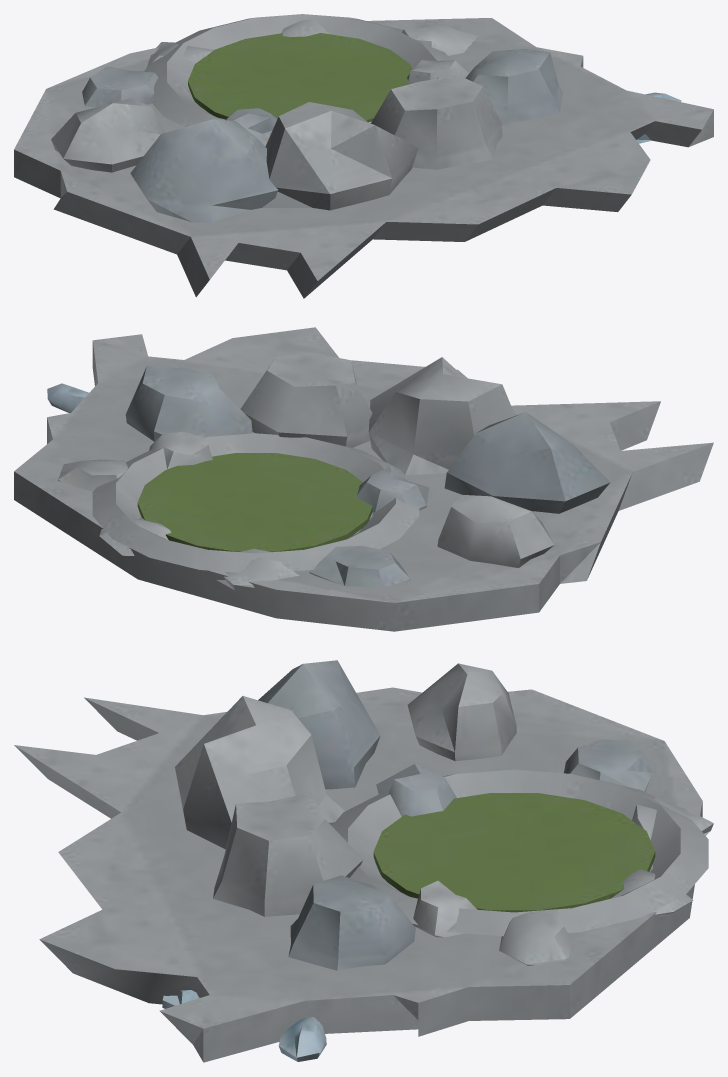
Rendered from lithium-brine.glb.
3 renders of one model, top to bottom at view 1: azimuth 30°, elevation 25°; view 2: azimuth 150°, elevation 25°; view 3: azimuth 270°, elevation 25°, orthographic. The views are drawn at different scales.
Parts seen in each view (by area): view 1: body; view 2: body; view 3: body.
Boxes of the visible parts, x1,y1,x2,y2 form: body: (14,14,713,298); body: (14,327,713,631); body: (14,660,713,1062).
Size of the model in its own units: 1.74 by 0.2895 by 1.49.
1 material, 1 textured.
